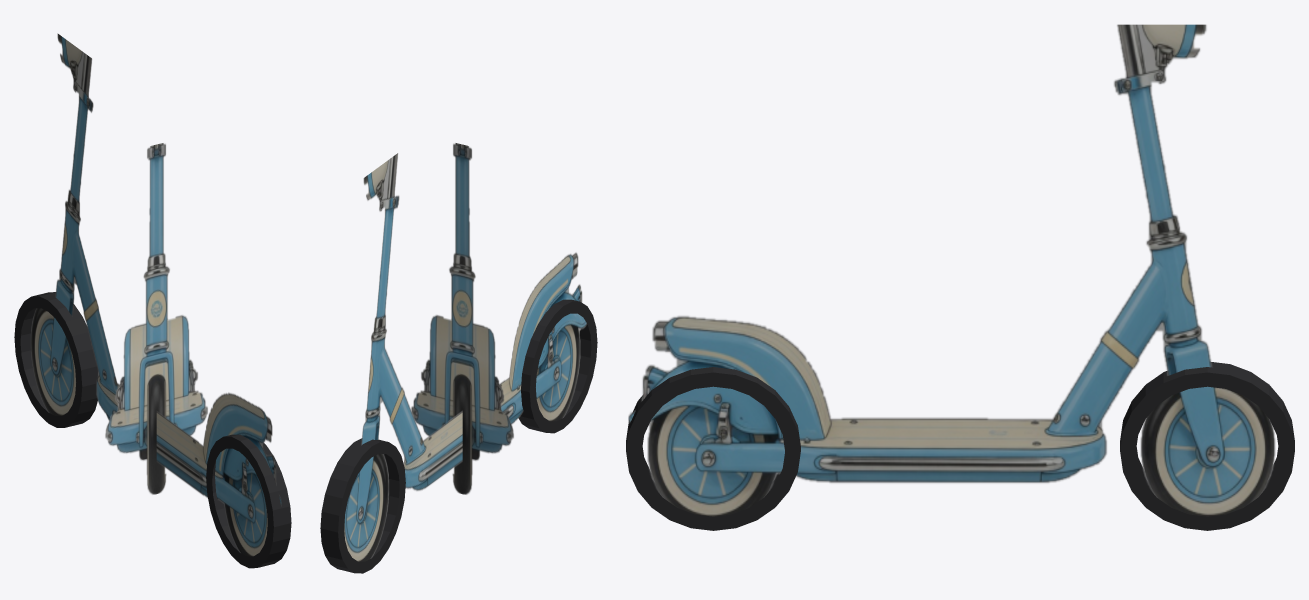
File: kick_scooter.glb
The picture shows the model from 3 angles, left to right: view 1: azimuth 30°, elevation 25°; view 2: azimuth 150°, elevation 25°; view 3: azimuth 270°, elevation 25°; orthographic projection. The views are drawn at different scales.
Visible parts, largest first — view 1: kick_scooter, wheel_FC, wheel_BC; view 2: kick_scooter, wheel_FC, wheel_BC; view 3: kick_scooter, wheel_FC, wheel_BC.
Boxes of the visible parts, x1,y1,x2,y2 form: kick_scooter: (31,33,281,556); wheel_FC: (14,292,98,427); wheel_BC: (206,434,291,568); kick_scooter: (344,143,586,561); wheel_FC: (320,438,405,573); wheel_BC: (518,299,597,433); kick_scooter: (628,24,1273,516); wheel_FC: (1120,362,1294,530); wheel_BC: (626,367,800,530).
Bounding box in the file's own units: 0.3991 × 0.769 × 0.9308.
Materials: 2 (1 with a texture image).
